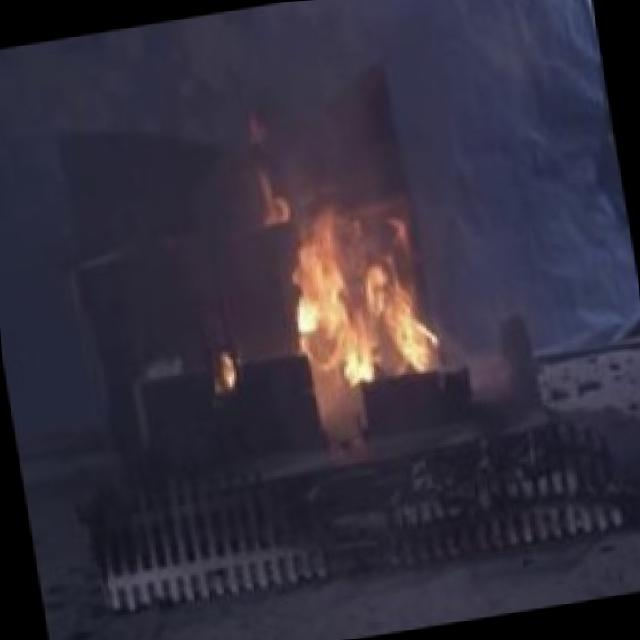fire: (243, 161, 462, 424)
